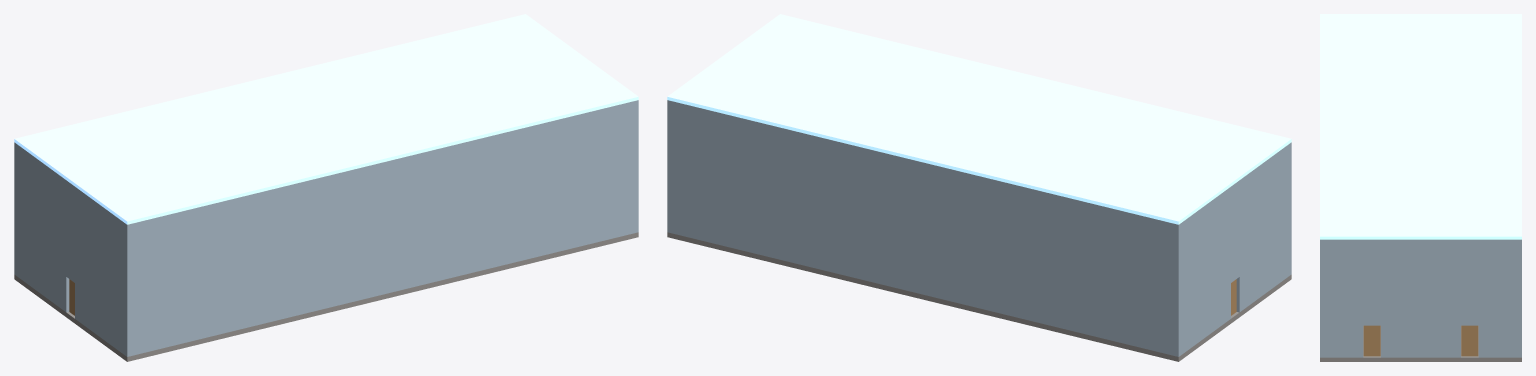
3 renders of one model, left to right at view 1: azimuth 30°, elevation 25°; view 2: azimuth 150°, elevation 25°; view 3: azimuth 270°, elevation 25°, orthographic. The views are drawn at different scales.
Parts seen in each view (by area): view 1: Street_Wall_S_1, Street_Ceiling, Street_Wall_W_1, Street_Wall_W_3, Street_Floor, Street_Wall_W_2; view 2: Street_Wall_N_1, Street_Ceiling, Street_Wall_W_3, Street_Wall_W_1, Street_Floor, Street_Wall_W_2; view 3: Street_Ceiling, Street_Wall_E_3, Street_Wall_E_1, Street_Wall_E_5, Street_Wall_E_2, Street_Wall_E_4, Street_Floor, DoorLeaf_sky_hall_01, DoorLeaf_sky_hall_02, Street_Wall_N_1, Street_Wall_S_1.
Part boxes in pixels (box(x1,y1,x2,y2)): Street_Wall_S_1: box(125, 100, 638, 356); Street_Ceiling: box(14, 14, 638, 224); Street_Wall_W_1: box(16, 143, 69, 312); Street_Wall_W_3: box(75, 187, 125, 355); Street_Floor: box(14, 232, 638, 361); Street_Wall_W_2: box(66, 180, 74, 282); Street_Wall_N_1: box(667, 100, 1180, 356); Street_Ceiling: box(667, 14, 1291, 224); Street_Wall_W_3: box(1236, 143, 1289, 312); Street_Wall_W_1: box(1180, 187, 1230, 355); Street_Floor: box(667, 232, 1291, 361); Street_Wall_W_2: box(1231, 180, 1239, 282); Street_Ceiling: box(1320, 14, 1521, 239); Street_Wall_E_3: box(1381, 239, 1460, 357); Street_Wall_E_1: box(1478, 239, 1518, 357); Street_Wall_E_5: box(1323, 239, 1363, 357); Street_Wall_E_2: box(1461, 239, 1478, 325); Street_Wall_E_4: box(1363, 239, 1380, 325); Street_Floor: box(1320, 326, 1521, 361); DoorLeaf_sky_hall_01: box(1461, 325, 1478, 356); DoorLeaf_sky_hall_02: box(1363, 325, 1380, 356); Street_Wall_N_1: box(1518, 239, 1521, 357); Street_Wall_S_1: box(1320, 239, 1323, 357).
Size of the model in its own units: 32.4 by 8.5 by 12.4.
